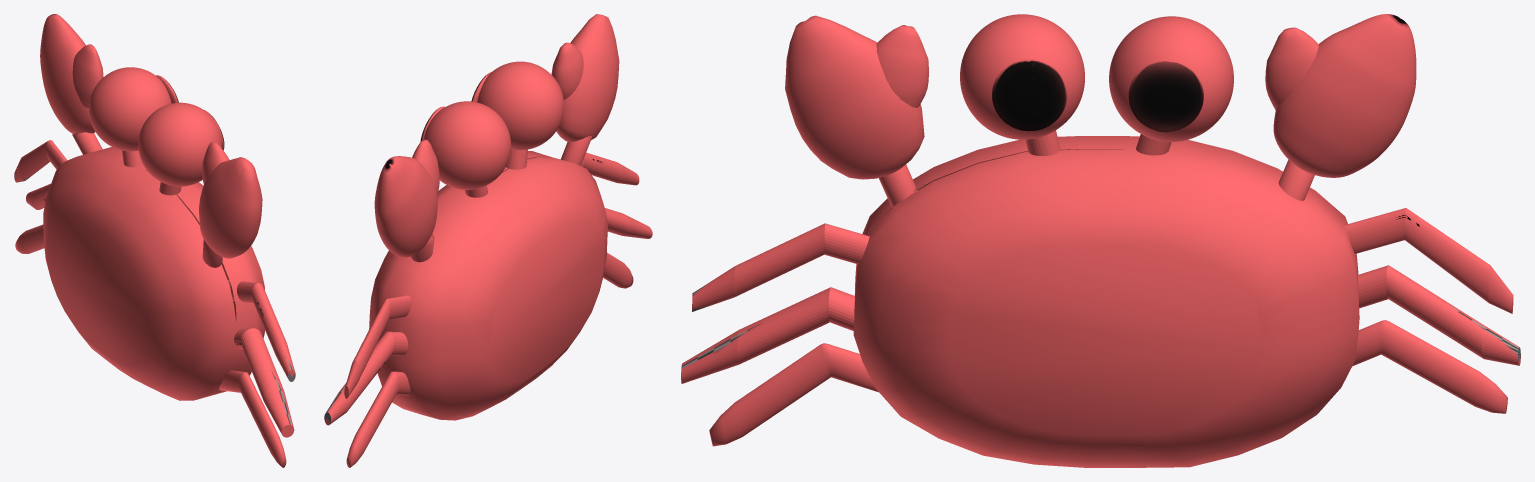
The model's file is crab.fbx.
3 views of the same model, side by side, from view 1: azimuth 30°, elevation 25°; view 2: azimuth 150°, elevation 25°; view 3: azimuth 270°, elevation 25° (orthographic). The views are drawn at different scales.
Parts seen in each view (by area): view 1: 胴体, 球.002, はさみ1.001, 球.001, はさみ1, 円柱.005, あし2, 円柱.003, はさみ2, 円柱.002, はさみ2.001, はさみ棒.002 (+3 smaller); view 2: 胴体, 球.001, 球.002, はさみ1, はさみ1.001, あし2, 円柱.004, 円柱.002, はさみ2.001, 円柱.003, 円柱.005, はさみ2 (+2 smaller); view 3: 胴体, はさみ1, はさみ1.001, あし2, 球.002, 球.001, 円柱.005, 円柱.002, 円柱.004, 円柱.003, 球, 球.003 (+4 smaller).
Part boxes in pixels (x1,y1,x2,y2): 胴体: (43, 147, 264, 400); 球.002: (138, 102, 221, 186); はさみ1.001: (199, 157, 262, 258); 球.001: (89, 67, 171, 151); はさみ1: (40, 14, 95, 133); 円柱.005: (234, 327, 294, 437); あし2: (15, 224, 286, 467); 円柱.003: (227, 280, 295, 381); はさみ2: (72, 44, 103, 107); 円柱.002: (14, 140, 67, 182); はさみ2.001: (202, 142, 229, 184); はさみ棒.002: (72, 132, 102, 154); 胴体: (369, 151, 608, 420); 球.001: (423, 101, 511, 189); 球.002: (477, 61, 563, 150); はさみ1: (374, 156, 437, 257); はさみ1.001: (556, 14, 619, 142); あし2: (346, 252, 633, 467); 円柱.004: (324, 331, 408, 425); 円柱.002: (344, 295, 411, 398); はさみ2.001: (551, 42, 583, 99); 円柱.003: (581, 152, 639, 185); 円柱.005: (605, 208, 652, 238); はさみ2: (412, 139, 439, 196); 胴体: (853, 136, 1359, 467); はさみ1: (1273, 14, 1416, 177); はさみ1.001: (785, 15, 924, 179); あし2: (709, 320, 1507, 446); 球.002: (960, 14, 1084, 139); 球.001: (1109, 16, 1233, 141); 円柱.005: (681, 287, 854, 383); 円柱.002: (1344, 208, 1513, 313); 円柱.004: (1358, 265, 1520, 365); 円柱.003: (692, 223, 869, 311); 球: (1128, 60, 1203, 132); 球.003: (991, 59, 1067, 131).
Bounding box in the file's own units: 142 × 338 × 589.
2 materials, 2 textured.
